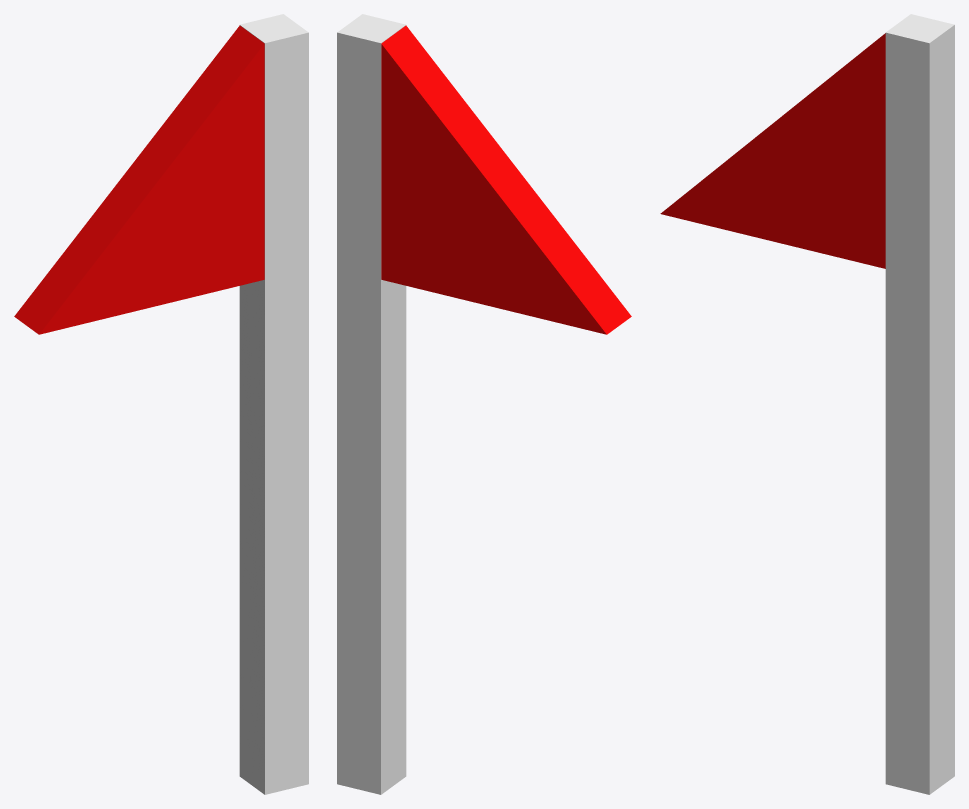
File: redhata.fbx
3 views of the same model, side by side, from view 1: azimuth 30°, elevation 25°; view 2: azimuth 150°, elevation 25°; view 3: azimuth 330°, elevation 25° (orthographic).
Parts seen in each view (by area): view 1: Cube, 立方体; view 2: Cube, 立方体; view 3: Cube, 立方体.
Boxes of the visible parts, x1,y1,x2,y2 form: Cube: (239, 14, 308, 794); 立方体: (14, 25, 264, 334); Cube: (337, 14, 406, 794); 立方体: (381, 25, 631, 334); Cube: (885, 14, 954, 794); 立方体: (660, 33, 885, 268).
Size of the model in its own units: 7.51 by 20 by 1.22.
2 materials, 2 textured.
